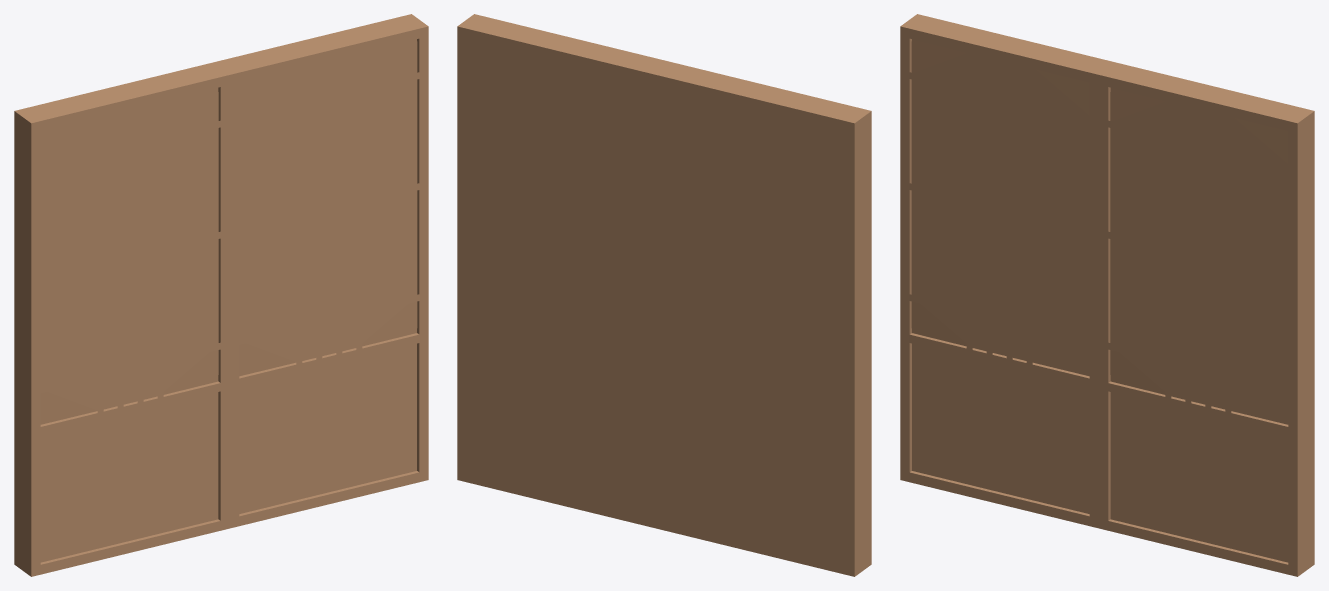
The model's file is Village_Door_C.fbx.
3 views of the same model, side by side, from view 1: azimuth 30°, elevation 25°; view 2: azimuth 150°, elevation 25°; view 3: azimuth 330°, elevation 25° (orthographic).
Visible parts, largest first — view 1: Village_Door_B2; view 2: Village_Door_B2; view 3: Village_Door_B2.
Boxes of the visible parts, left/top/right/bottom form: Village_Door_B2: left=14, top=14, right=428, bottom=576; Village_Door_B2: left=457, top=14, right=871, bottom=576; Village_Door_B2: left=900, top=14, right=1314, bottom=576.
Bounding box in the file's own units: 165 × 180 × 12.2.
